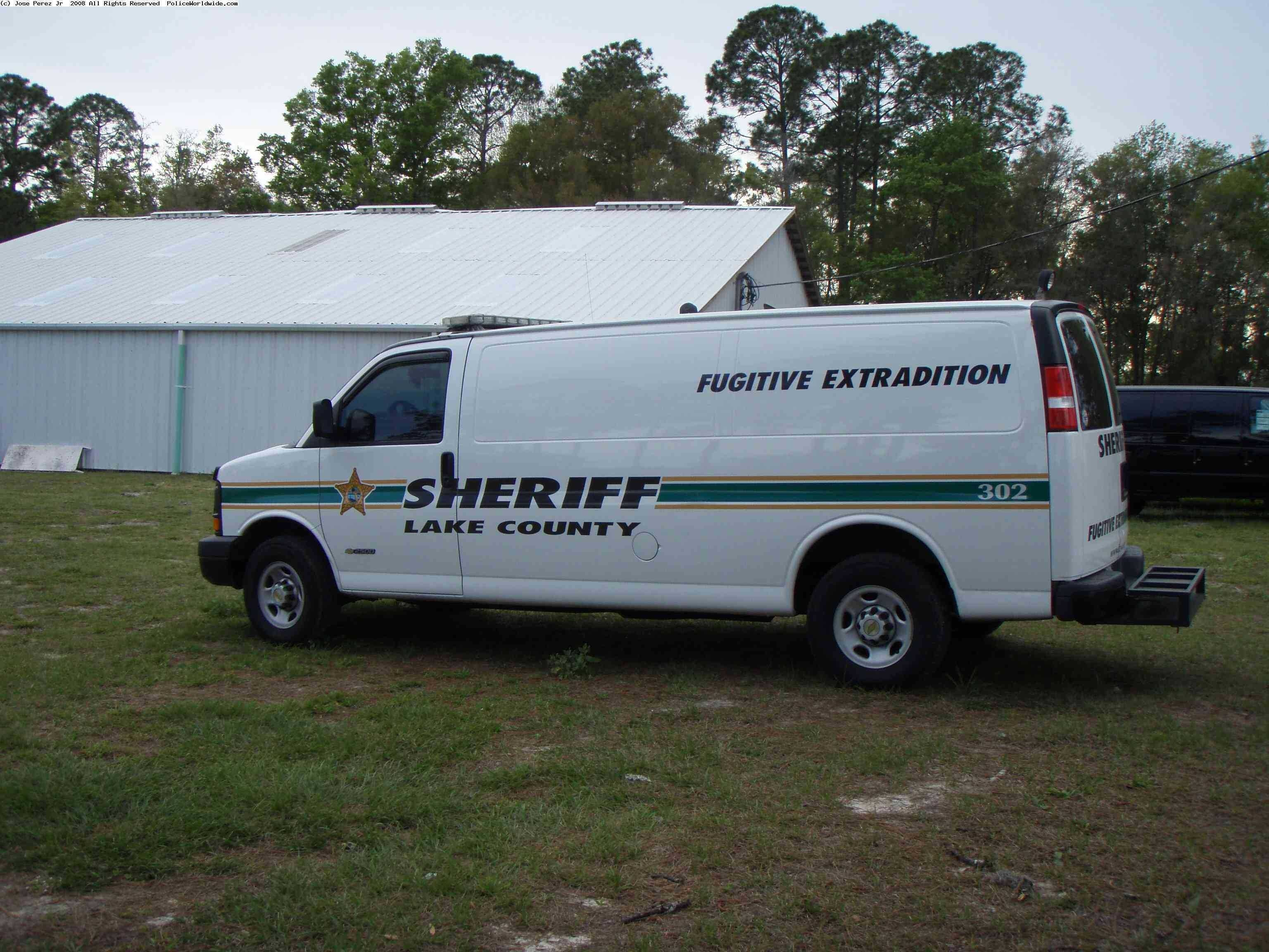Police Van: (178, 296, 1216, 696)
